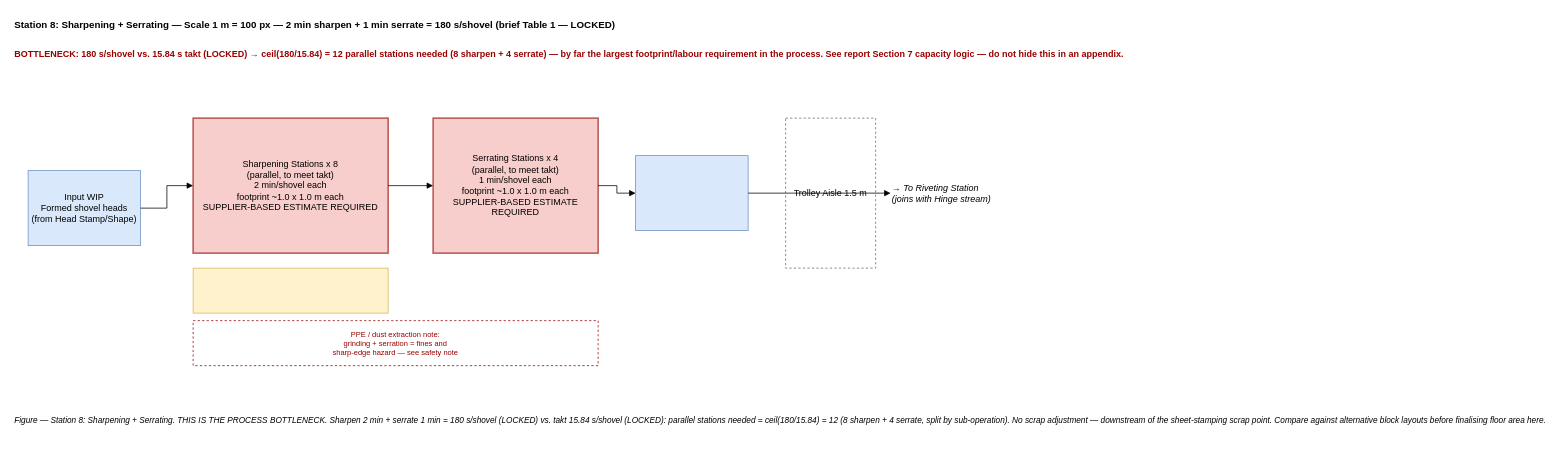
Image size: 1559x468. Some labels were removed from this diagram. Each missing label, with the centre of its shape:
Operator zones (1 per station — 12 total) DESIGNER ASSUMPTION: pixel 290 290
Output WIP Sharpened + serrated heads (await Riveting): pixel 691 193
